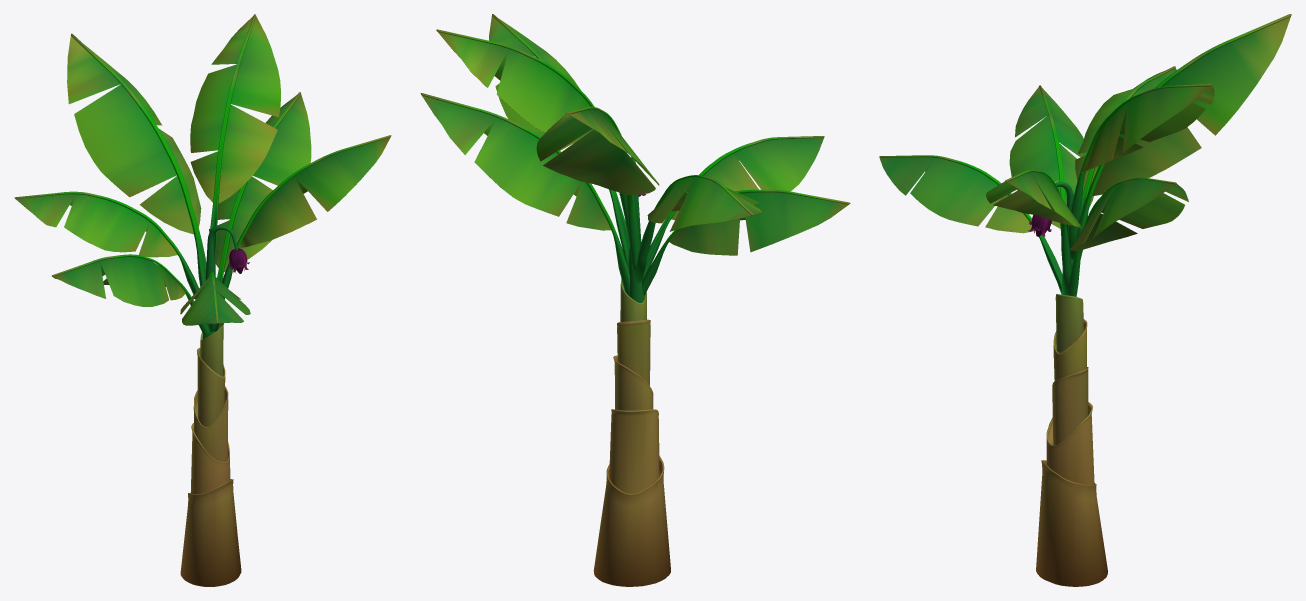
The model's file is PlantWithFlower.fbx.
3 views of the same model, side by side, from view 1: azimuth 30°, elevation 25°; view 2: azimuth 150°, elevation 25°; view 3: azimuth 270°, elevation 25° (orthographic). The views are drawn at different scales.
Visible parts, largest first — view 1: PlantWithFlower; view 2: PlantWithFlower; view 3: PlantWithFlower.
Boxes of the visible parts, left/top/right/bottom form: PlantWithFlower: left=14, top=14, right=391, bottom=586; PlantWithFlower: left=420, top=14, right=850, bottom=586; PlantWithFlower: left=879, top=14, right=1291, bottom=586.
Bounding box in the file's own units: 155 × 223 × 153.
1 material, 1 textured.
